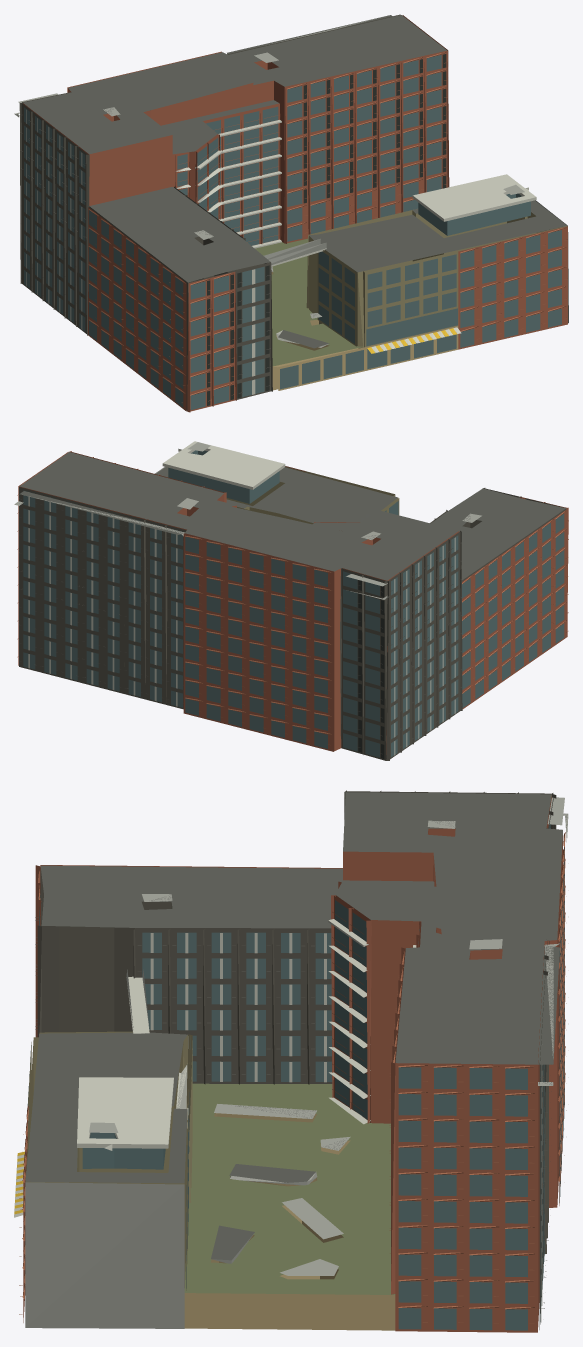
Rendered from haparandaweg-8-338.lod1.glb.
The picture shows the model from 3 angles, top to bottom: view 1: azimuth 30°, elevation 25°; view 2: azimuth 150°, elevation 25°; view 3: azimuth 270°, elevation 25°; orthographic projection. The views are drawn at different scales.
Visible parts, largest first — view 1: haparandaweg-8-338; view 2: haparandaweg-8-338; view 3: haparandaweg-8-338.
Part boxes in pixels (x1,y1,x2,y2): haparandaweg-8-338: (14,14,568,412); haparandaweg-8-338: (14,441,568,760); haparandaweg-8-338: (14,790,568,1332).
Size of the model in its own units: 70.85 by 32.71 by 59.23.
